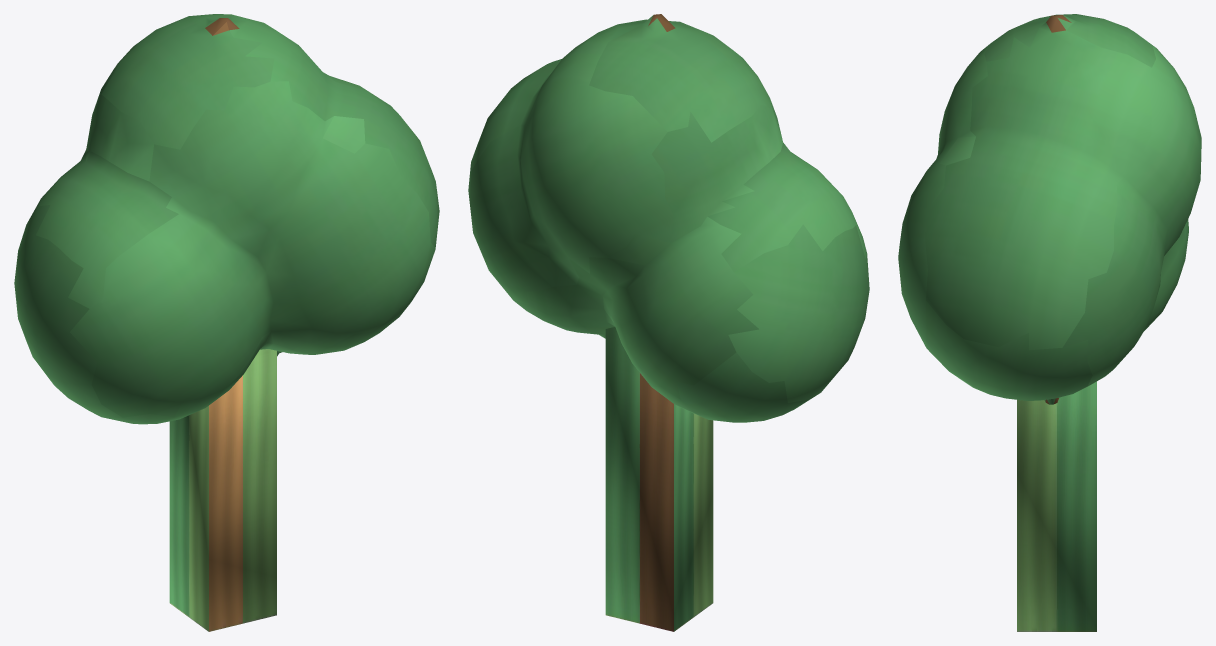
The model's file is tree_round_c.glb.
The picture shows the model from 3 angles, left to right: view 1: azimuth 30°, elevation 25°; view 2: azimuth 150°, elevation 25°; view 3: azimuth 270°, elevation 25°; orthographic projection.
Visible parts, largest first — view 1: lod0, col; view 2: lod0, col; view 3: lod0, col.
Boxes of the visible parts, left/top/right/bottom form: lod0: left=14, top=14, right=439, bottom=424; col: left=169, top=349, right=276, bottom=631; lod0: left=468, top=14, right=869, bottom=422; col: left=605, top=327, right=713, bottom=631; lod0: left=898, top=14, right=1201, bottom=404; col: left=1017, top=381, right=1096, bottom=631.
Size of what is drawn, in the model's own units: 3.32 by 4.97 by 2.28.
2 materials, 2 textured.
